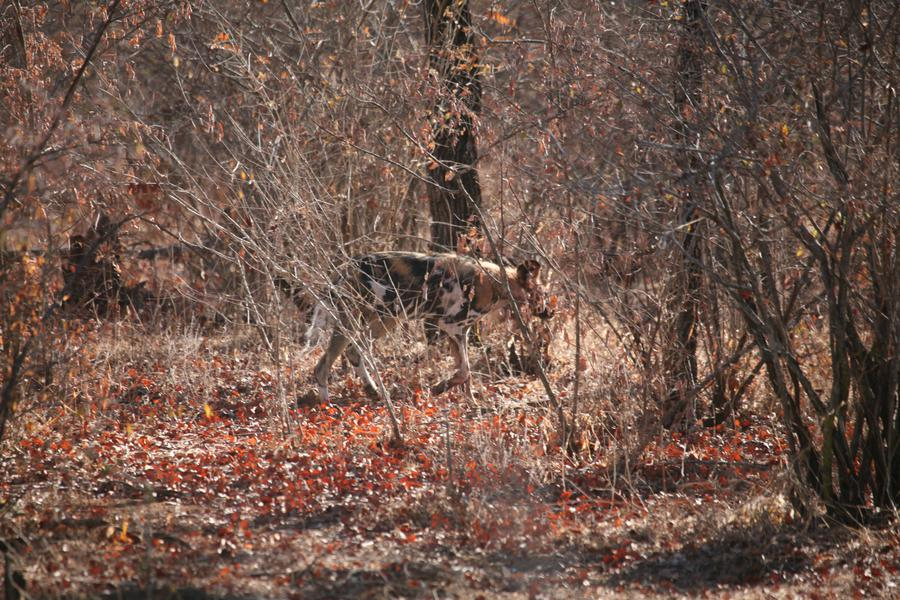wilddog: (305, 250, 555, 371)
